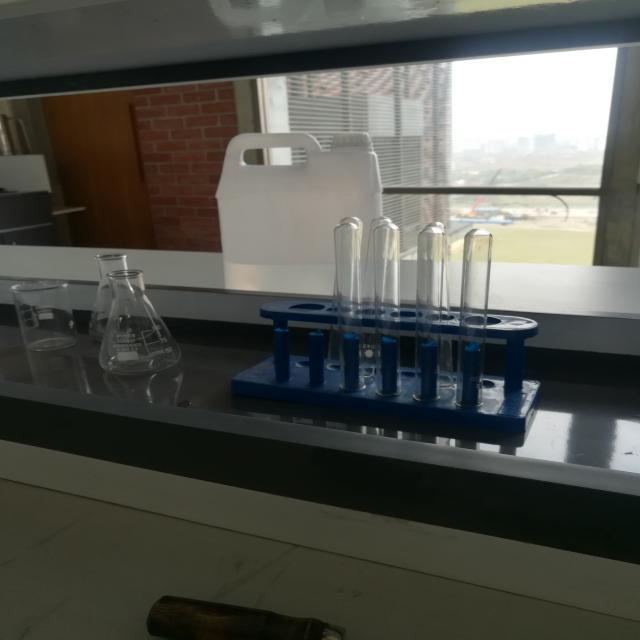Beaker: (0, 258, 81, 363)
Conical_Flask: (85, 239, 206, 382)
Test_Tube: (291, 191, 533, 449)
